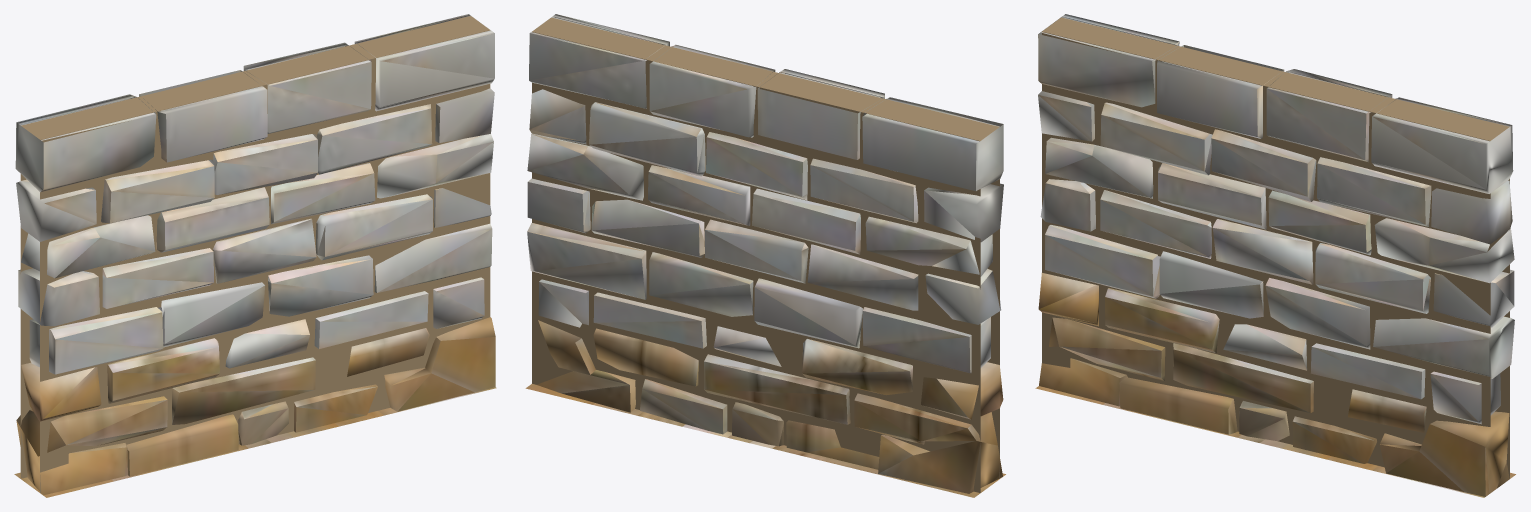
File: wall-plaster-half.lod1.glb
The picture shows the model from 3 angles, left to right: view 1: azimuth 30°, elevation 25°; view 2: azimuth 150°, elevation 25°; view 3: azimuth 330°, elevation 25°; orthographic projection.
Size of the model in its own units: 2 by 1.5 by 0.25.
Materials: 1 (1 with a texture image).
